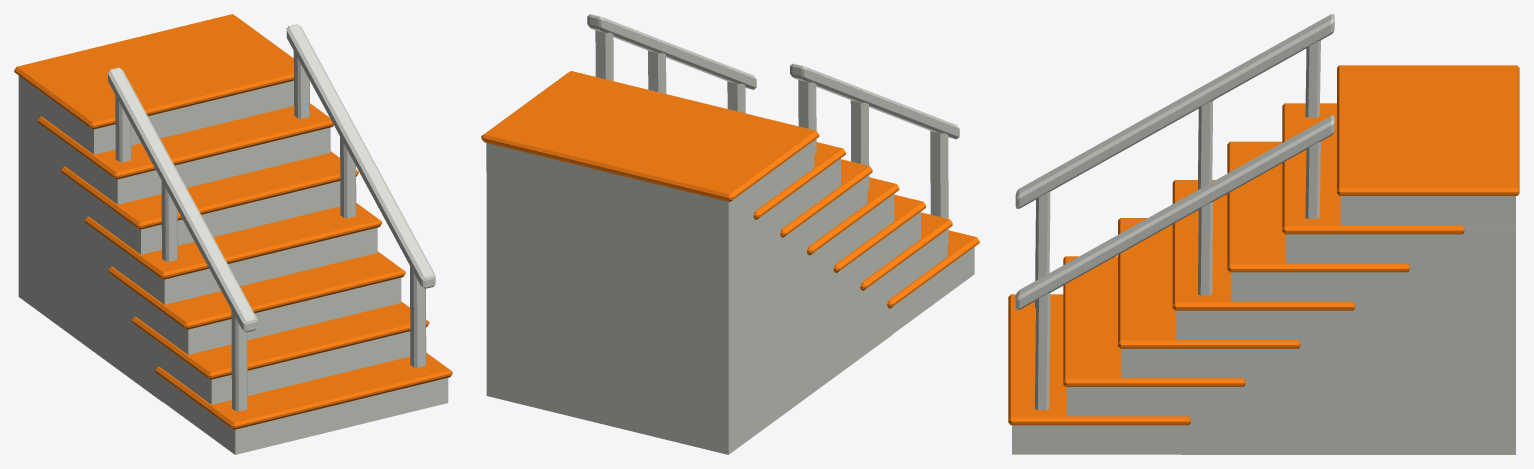
File: Merdiven.fbx
The picture shows the model from 3 angles, left to right: view 1: azimuth 30°, elevation 25°; view 2: azimuth 150°, elevation 25°; view 3: azimuth 270°, elevation 25°; orthographic projection. The views are drawn at different scales.
Parts seen in each view (by area): view 1: Merdiven; view 2: Merdiven; view 3: Merdiven.
Part boxes in pixels (x1,y1,x2,y2): Merdiven: [14, 14, 452, 454]; Merdiven: [481, 14, 979, 454]; Merdiven: [1008, 14, 1519, 454].
Size of the model in its own units: 3642 by 4420 by 6250.
